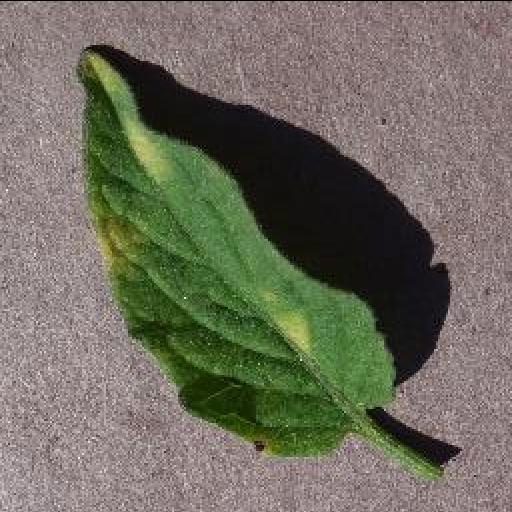disease_tomato: (76, 46, 398, 454)
